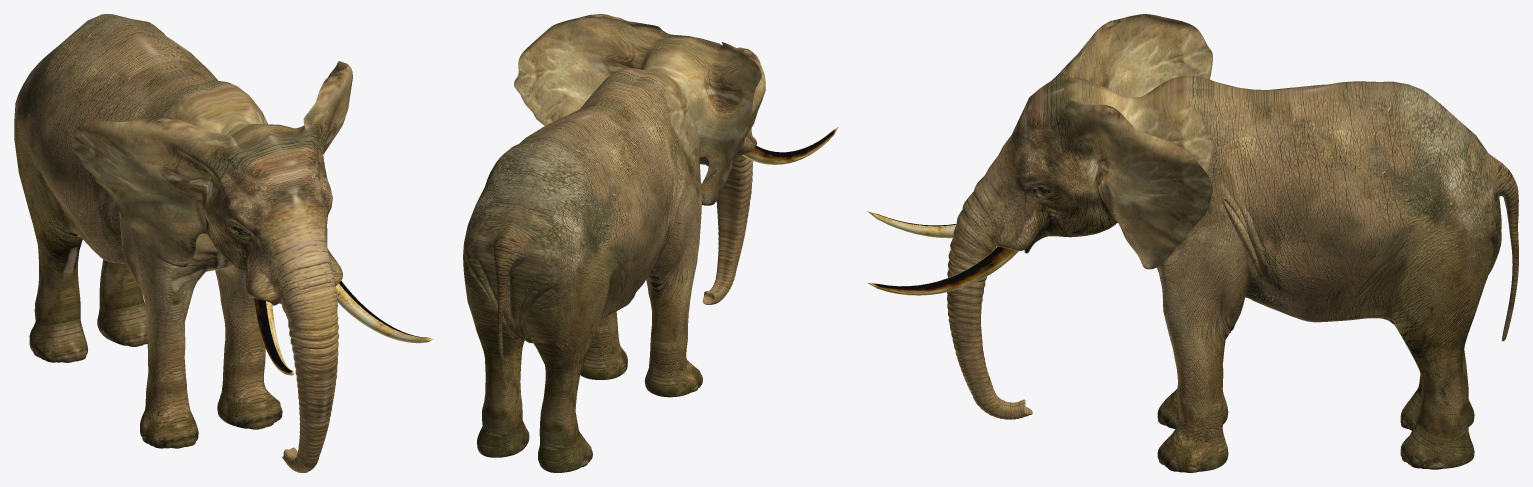
The picture shows the model from 3 angles, left to right: view 1: azimuth 30°, elevation 25°; view 2: azimuth 150°, elevation 25°; view 3: azimuth 270°, elevation 25°; orthographic projection. The views are drawn at different scales.
Parts seen in each view (by area): view 1: MainEleM, EleTuskL, EleTuskR; view 2: MainEleM, EleTuskR; view 3: MainEleM, EleTuskL, EleTuskR.
Part boxes in pixels (left/top/right/bottom): MainEleM: left=14, top=14, right=352, bottom=472; EleTuskL: left=335, top=281, right=433, bottom=343; EleTuskR: left=253, top=298, right=294, bottom=375; MainEleM: left=463, top=14, right=765, bottom=472; EleTuskR: left=742, top=127, right=838, bottom=164; MainEleM: left=947, top=14, right=1518, bottom=472; EleTuskL: left=868, top=246, right=1018, bottom=295; EleTuskR: left=867, top=211, right=956, bottom=238.
Bounding box in the file's own units: 546 × 717 × 1132.
3 materials, 2 textured.
